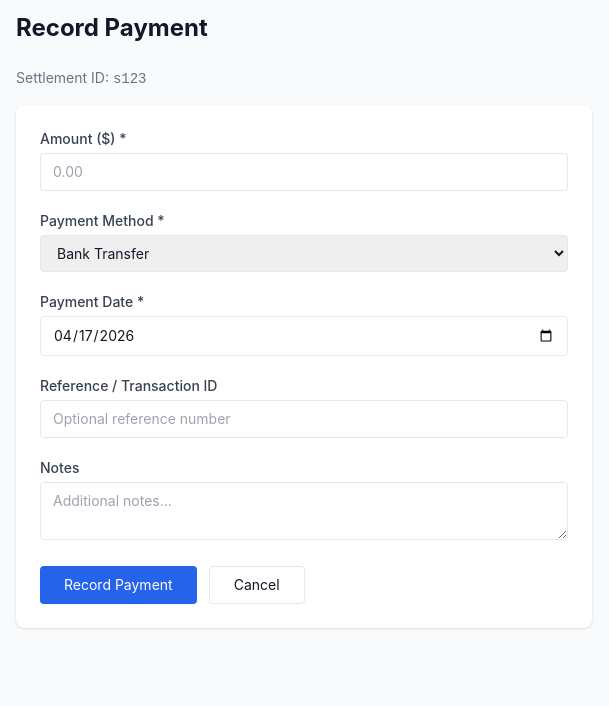
Test case: PaymentRecordPage › shows success message on successful payment
This screenshot has width=609, height=706.
Step 1. Type "50" into the number field with placeholder "0.00" → point(304, 172), box 40,153 -> 568,191
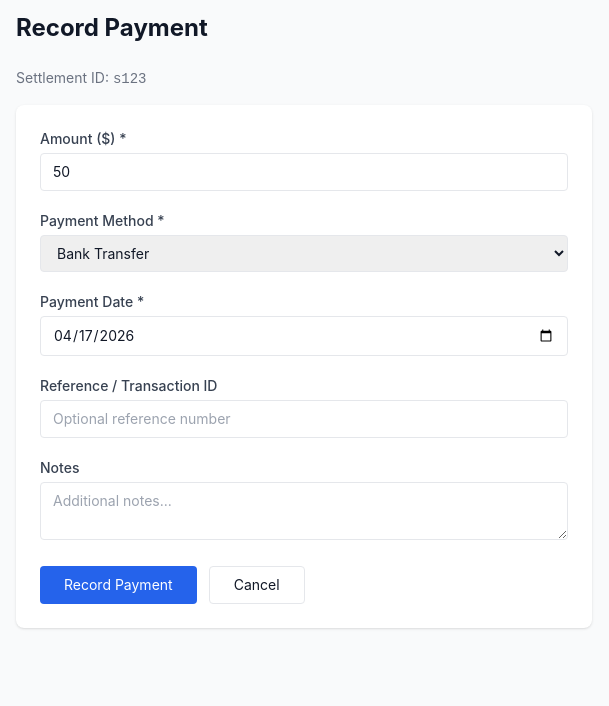
Step 2. Click the button "Record Payment" → point(118, 585), box 40,566 -> 197,604
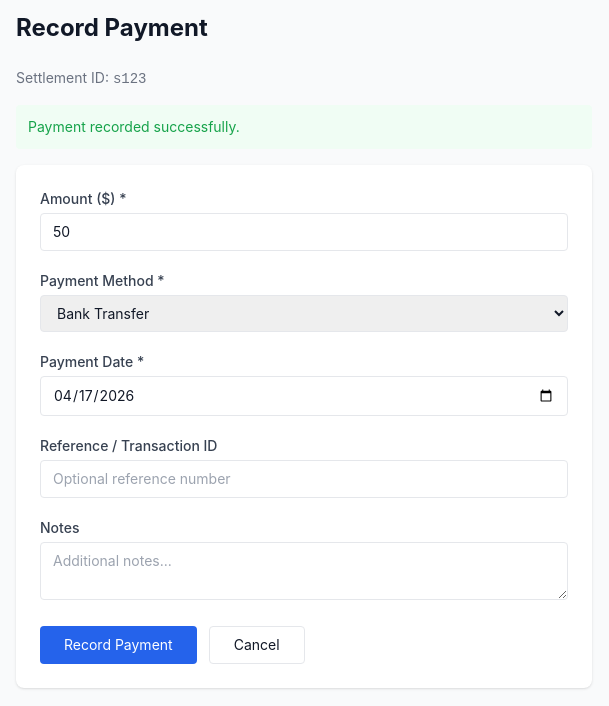
Result: the text "Payment recorded successfully." is shown at 16,105 -> 592,149
